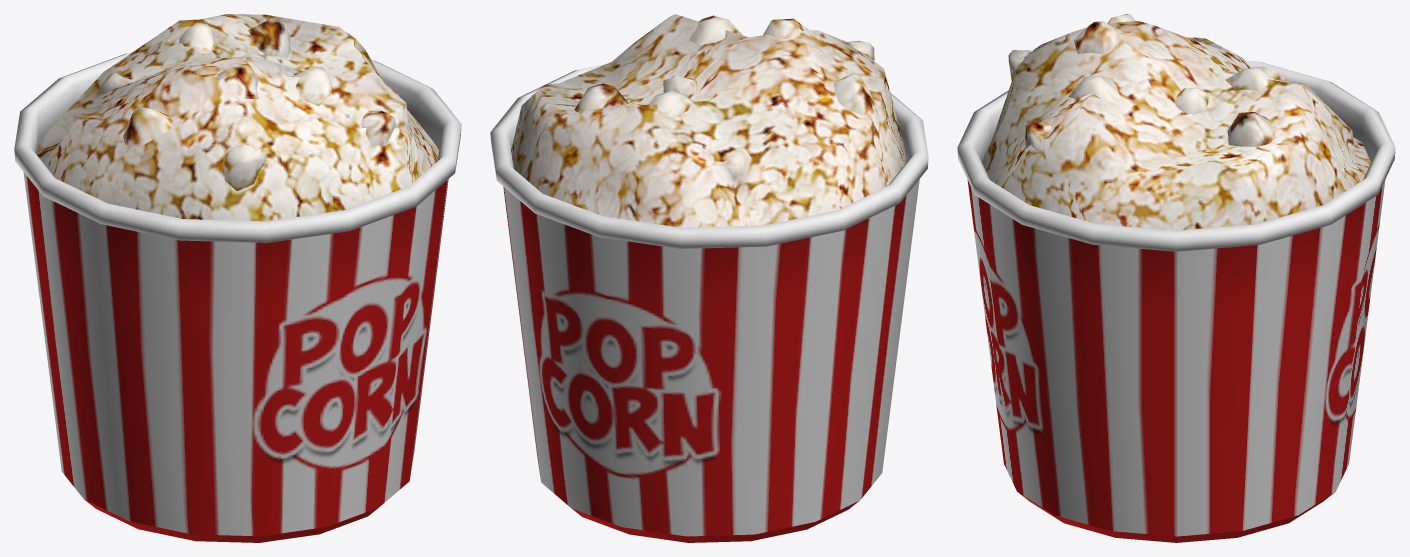
The model's file is PopcornBucketFull.FBX.
The picture shows the model from 3 angles, left to right: view 1: azimuth 30°, elevation 25°; view 2: azimuth 150°, elevation 25°; view 3: azimuth 270°, elevation 25°; orthographic projection. The views are drawn at different scales.
Visible parts, largest first — view 1: PopcornFull; view 2: PopcornFull; view 3: PopcornFull.
Boxes of the visible parts, x1,y1,x2,y2 form: PopcornFull: (14, 14, 461, 542); PopcornFull: (490, 14, 928, 542); PopcornFull: (957, 14, 1395, 542).
Bounding box in the file's own units: 23.18 × 25.3 × 23.18.
Materials: 1 (1 with a texture image).
